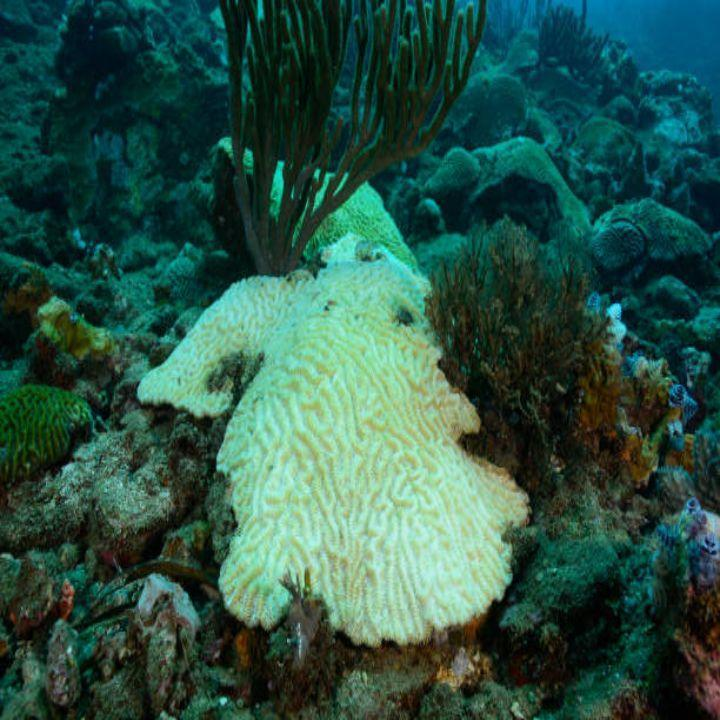Bleached-disease: (105, 210, 565, 713)
